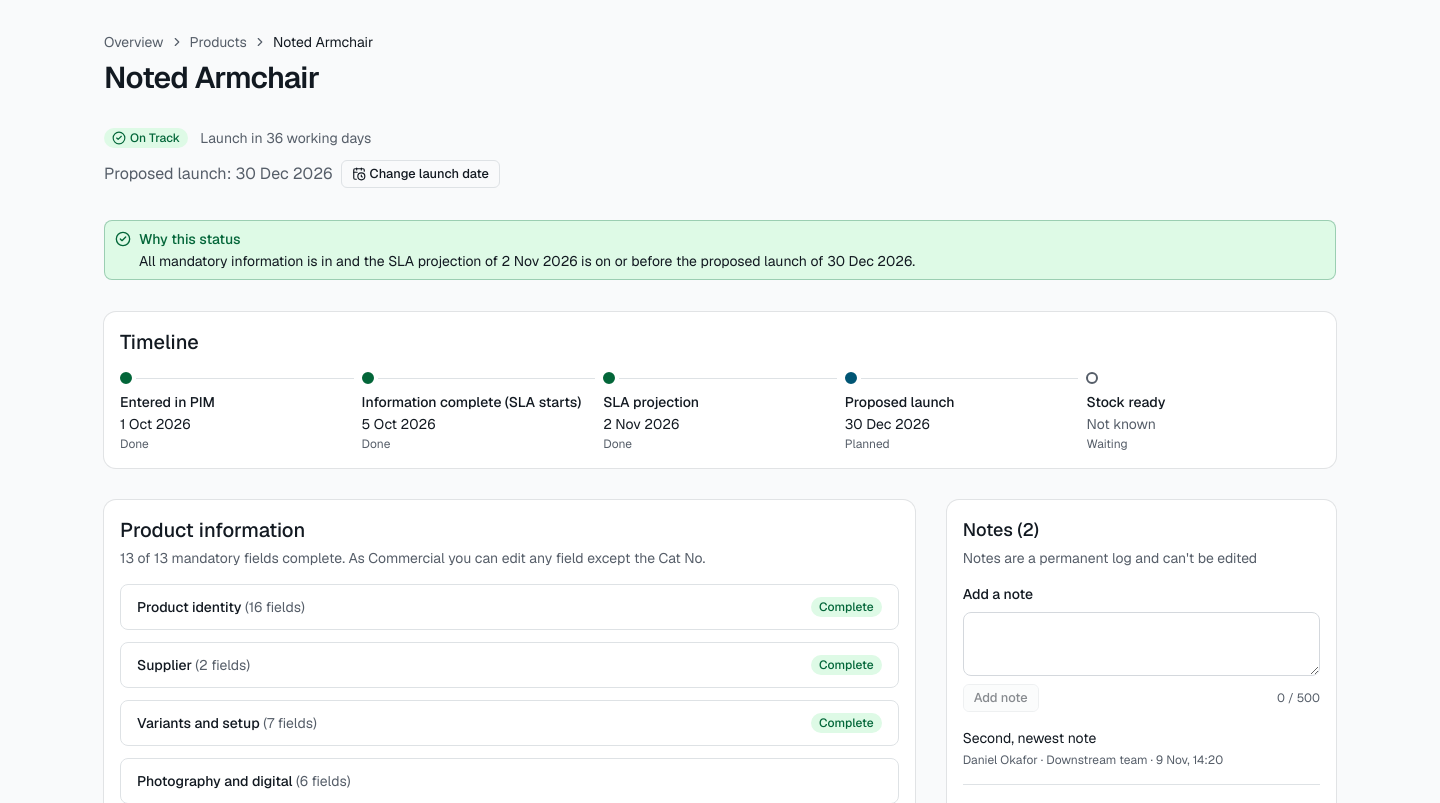
Test: ProductNotes › adds a note at the top straight away, as Commercial / Range Planning, and clears the box
Type "Supplier to provide lifestyle images" into the text box labelled "Add a note" at (1141, 644), box [963,612,1320,676]
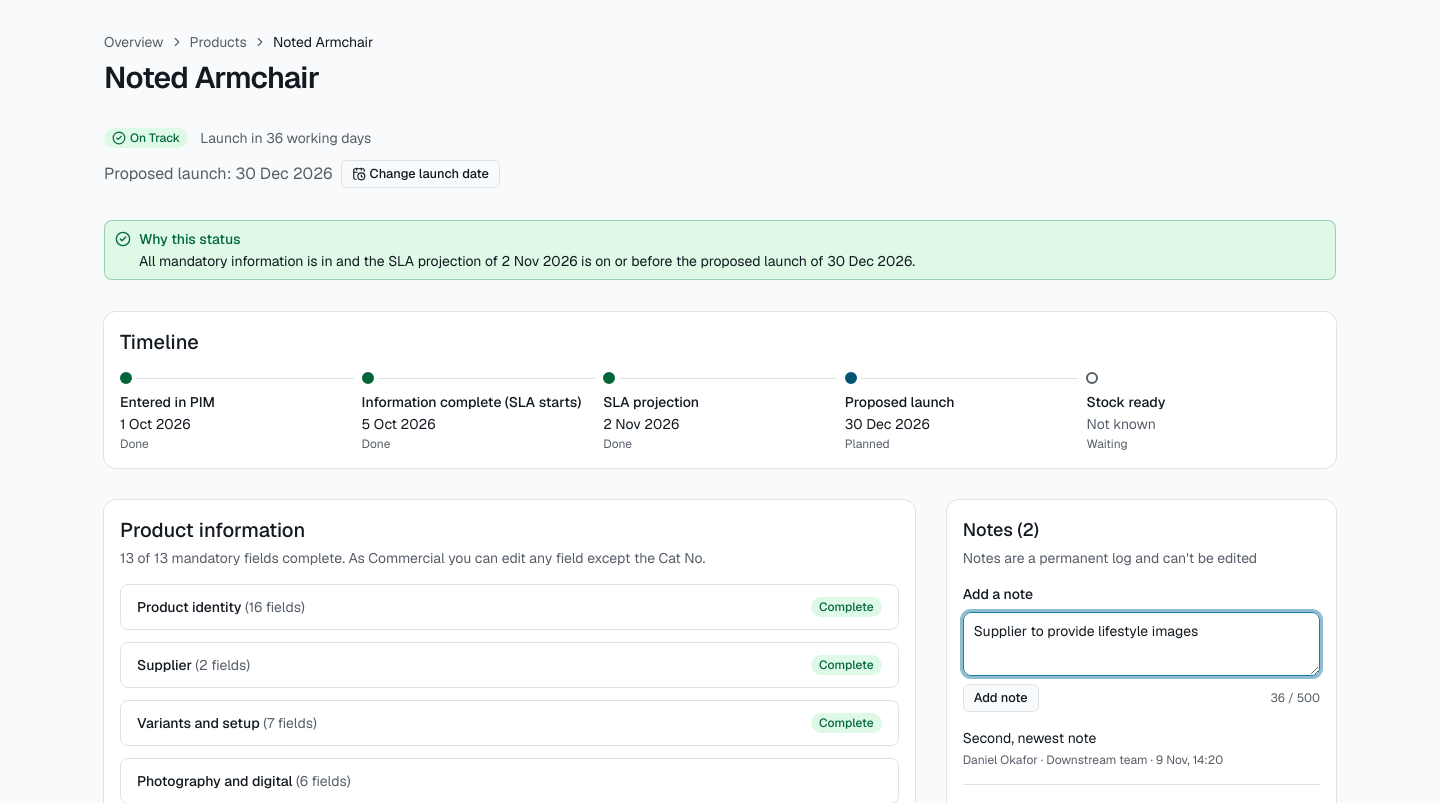
Click the button "Add note" at (1001, 698), box [963,684,1039,712]
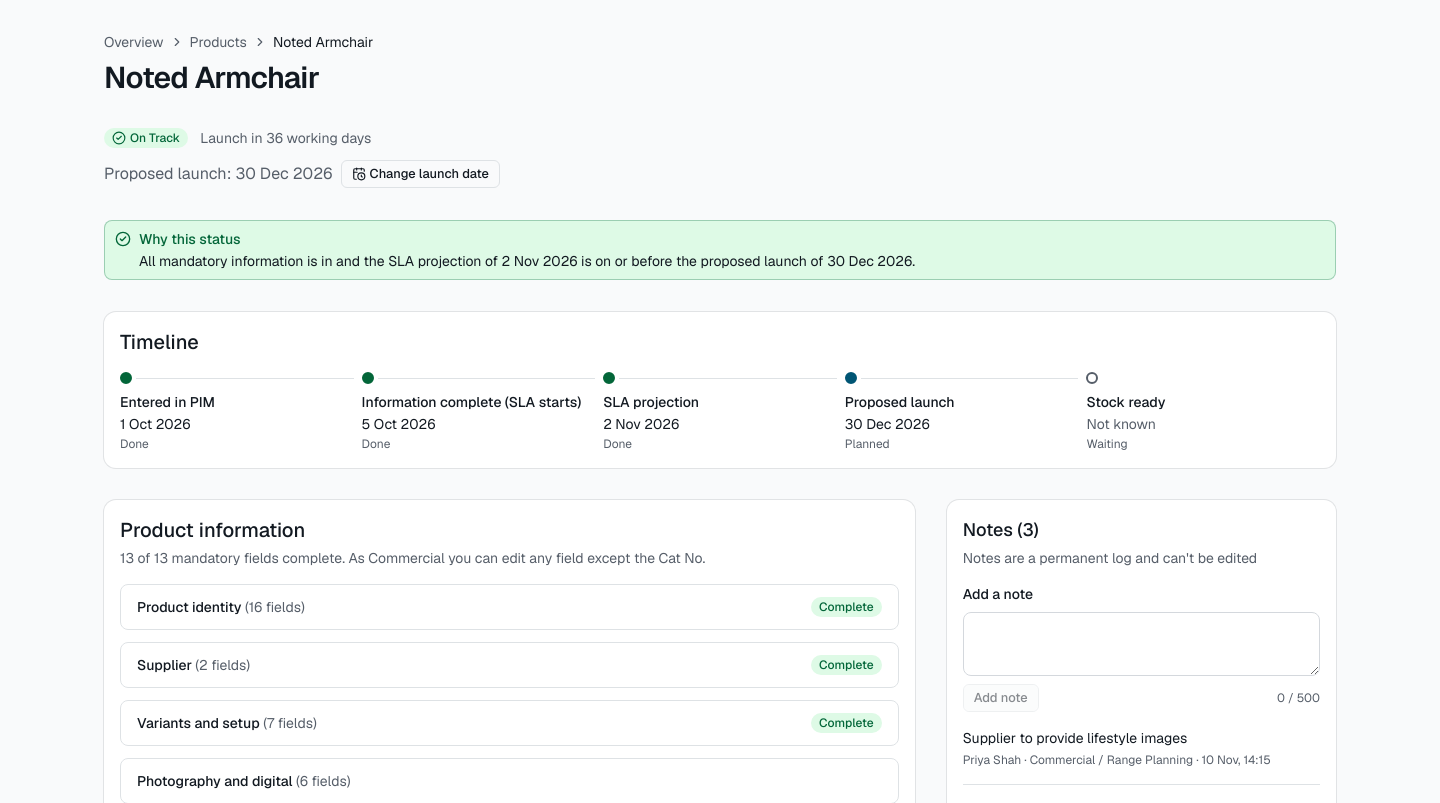
Now the heading "Notes (3)" is shown, box [963,518,1039,541]
Now the text "Supplier to provide lifestyle images" is shown, box [963,729,1187,747]
Now the text "Priya Shah · Commercial / Range Planning · 10 Nov, 14:15" is shown, box [963,752,1320,768]
